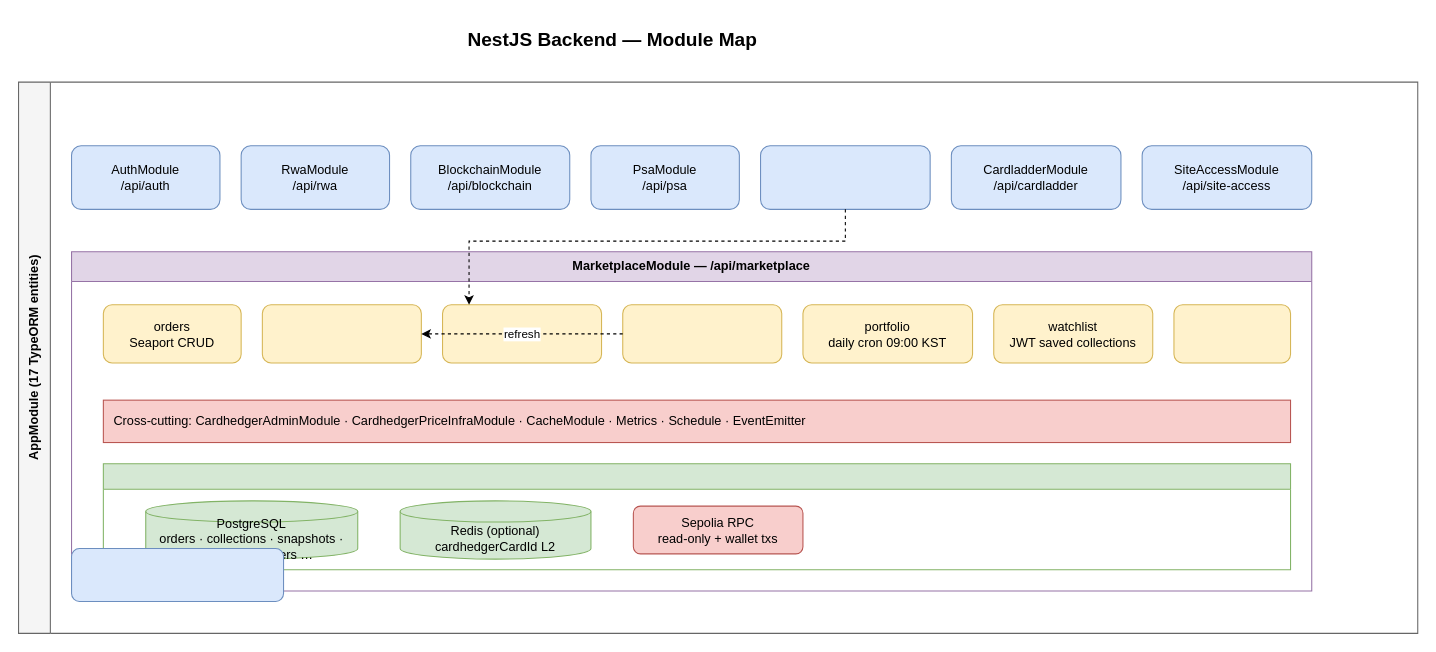
The diagram is 1436 pixels wide and 652 high, and some of its shapes have lost their labels. Each missing label, with the box of its shape:
admin marketplace console: (1173, 304, 1291, 363)
CardhedgerModule /api/cardhedger: (759, 145, 930, 209)
collections identity cache L1/L2: (261, 304, 421, 363)
Data stores: (102, 463, 1291, 570)
HealthModule · GET /api/health: (70, 547, 284, 602)
market-data Cardhedger resolve: (441, 304, 602, 363)
snapshots materialized pricing: (622, 304, 782, 363)
